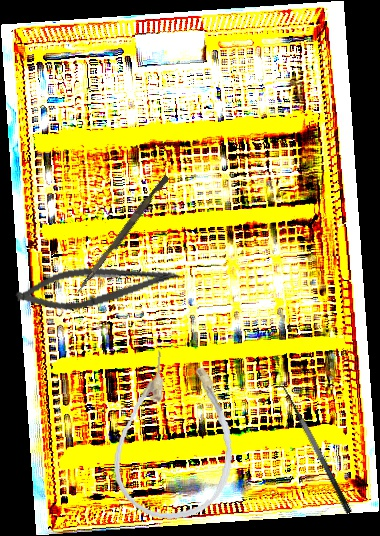Cannula: (107, 346, 245, 526)
Micro Scissor: (12, 249, 185, 321)
Pusher: (75, 172, 170, 298)
Spatula Surgical: (271, 380, 354, 520)
